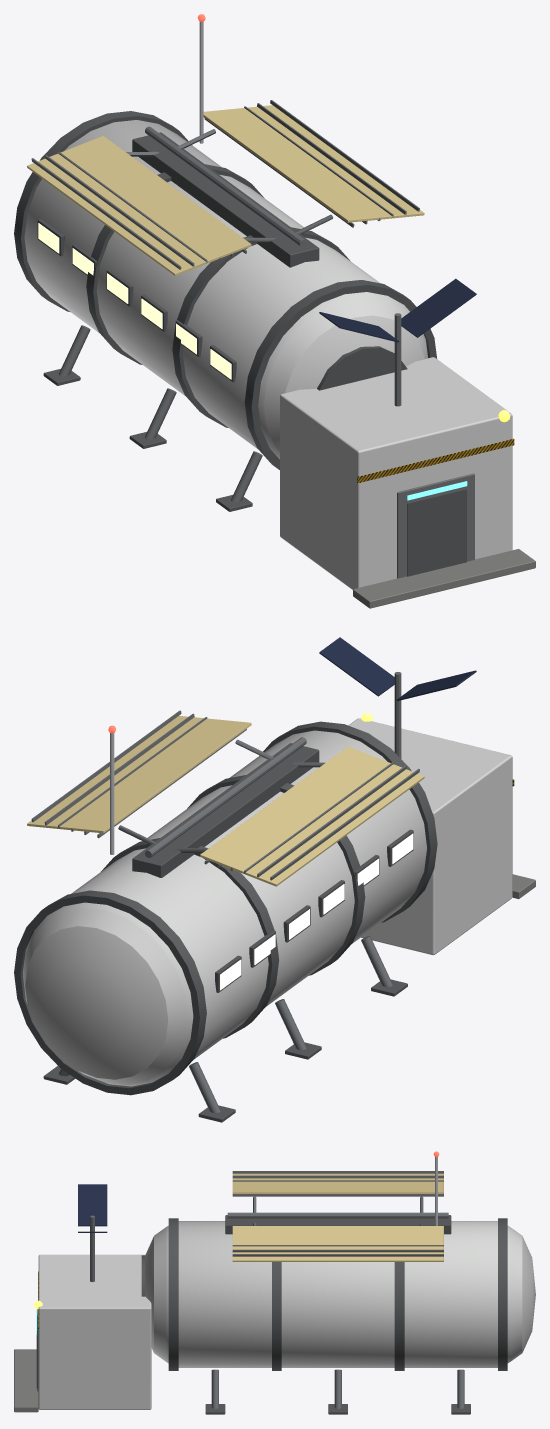
Rendered from habitat_module.glb.
The picture shows the model from 3 angles, top to bottom: view 1: azimuth 30°, elevation 25°; view 2: azimuth 150°, elevation 25°; view 3: azimuth 270°, elevation 25°; orthographic projection. The views are drawn at different scales.
Parts seen in each view (by area): view 1: habitat_module; view 2: habitat_module; view 3: habitat_module.
Part boxes in pixels (bbox=[...]): habitat_module: bbox=[14, 14, 535, 608]; habitat_module: bbox=[14, 637, 535, 1122]; habitat_module: bbox=[14, 1151, 535, 1414].
Size of the model in its own units: 8.38 by 11.19 by 21.25.
12 materials, 1 textured.
